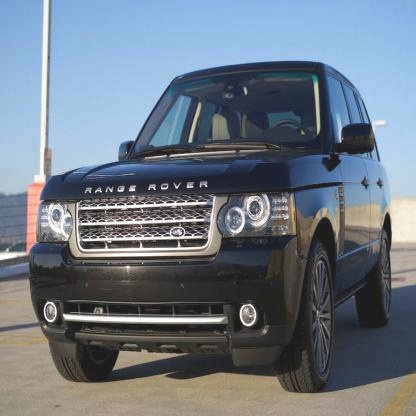Vehicle: (28, 59, 393, 396)
